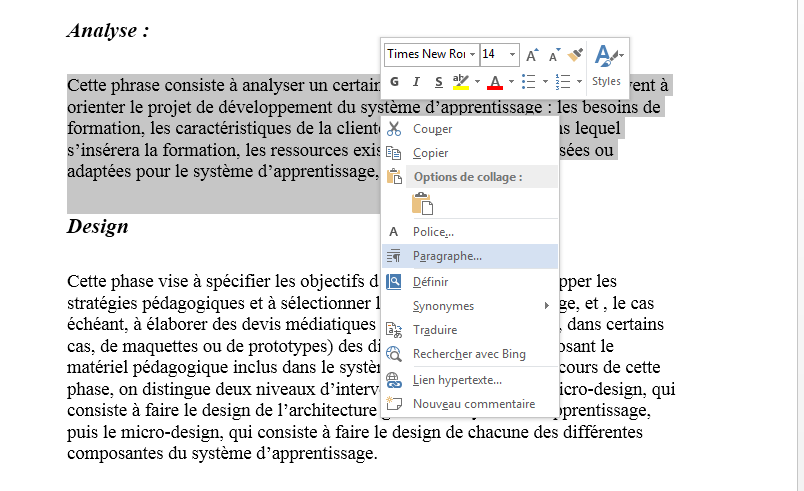texte: (258, 164, 379, 181), (257, 446, 377, 463), (176, 121, 291, 138), (219, 100, 332, 117), (426, 100, 542, 115), (142, 296, 244, 313), (121, 425, 223, 442), (66, 215, 128, 242), (133, 360, 228, 377), (553, 404, 650, 420), (68, 447, 163, 463), (286, 317, 375, 334), (243, 78, 328, 95), (249, 340, 333, 356), (66, 23, 137, 41), (282, 296, 380, 309), (278, 403, 376, 416), (68, 121, 144, 137), (560, 382, 646, 396), (468, 418, 528, 438), (68, 296, 137, 313), (143, 382, 210, 399), (123, 341, 197, 356), (163, 143, 240, 157), (68, 164, 131, 181), (207, 274, 270, 291), (301, 274, 364, 291), (564, 425, 642, 438), (361, 100, 420, 117), (194, 164, 253, 181), (386, 274, 448, 290), (193, 446, 251, 463), (387, 49, 494, 58), (68, 143, 140, 156), (68, 403, 137, 416), (258, 425, 327, 438), (111, 78, 159, 95), (393, 425, 441, 442), (398, 349, 472, 360), (67, 360, 128, 373), (68, 317, 128, 330), (147, 317, 207, 330), (321, 382, 379, 395), (576, 121, 620, 138), (68, 100, 125, 113), (413, 301, 474, 313), (148, 100, 191, 117), (582, 100, 638, 113), (607, 317, 663, 330), (111, 274, 153, 291), (67, 382, 109, 399), (165, 79, 224, 91), (414, 251, 473, 263), (271, 147, 348, 156), (203, 403, 250, 417), (439, 375, 493, 387), (340, 360, 376, 377), (333, 79, 380, 91), (465, 400, 535, 408), (337, 121, 380, 134), (234, 360, 277, 373), (378, 286, 395, 318), (477, 172, 522, 184), (256, 386, 315, 395), (595, 45, 624, 63), (414, 172, 457, 184), (586, 296, 625, 309), (414, 399, 460, 410), (242, 317, 280, 330), (413, 325, 457, 336), (412, 192, 433, 215), (216, 382, 252, 395), (68, 79, 106, 91), (414, 124, 452, 136), (68, 275, 106, 287), (613, 286, 627, 318), (136, 168, 170, 181), (453, 74, 480, 90), (568, 317, 601, 330), (283, 360, 316, 373), (336, 425, 369, 438), (413, 148, 448, 160), (556, 74, 582, 90), (560, 278, 592, 291), (146, 403, 178, 416), (626, 361, 660, 373), (652, 382, 675, 399), (229, 425, 252, 442), (67, 429, 97, 442), (487, 76, 514, 90), (312, 70, 325, 99), (560, 143, 589, 156), (414, 227, 448, 238), (560, 342, 595, 352), (560, 364, 598, 373), (534, 425, 558, 438), (630, 79, 655, 91), (375, 418, 390, 438), (213, 317, 236, 330), (339, 339, 362, 352), (321, 414, 330, 447), (593, 77, 620, 87), (158, 278, 188, 287), (503, 349, 525, 361), (557, 100, 577, 113), (246, 143, 266, 156), (386, 322, 402, 338), (151, 121, 170, 134), (276, 274, 295, 287), (597, 274, 616, 287), (560, 300, 579, 313), (338, 100, 356, 113), (354, 147, 380, 156), (68, 343, 94, 352), (169, 446, 187, 459), (132, 392, 139, 425), (413, 375, 434, 386), (643, 100, 660, 113), (446, 425, 463, 438), (386, 146, 401, 160), (197, 100, 213, 113), (297, 121, 313, 134), (604, 360, 620, 373), (101, 339, 117, 352), (227, 339, 243, 352), (256, 403, 272, 416), (631, 300, 654, 309), (387, 122, 401, 136), (568, 48, 583, 61), (130, 100, 143, 113), (319, 121, 332, 134), (145, 143, 158, 156), (175, 164, 188, 177), (184, 403, 197, 416), (595, 147, 613, 156), (527, 48, 539, 61), (250, 297, 263, 309), (601, 339, 613, 352), (322, 360, 334, 373), (104, 425, 116, 438), (204, 343, 221, 352), (120, 386, 137, 395), (476, 352, 498, 358), (460, 172, 474, 181), (368, 339, 377, 352), (551, 48, 559, 61), (370, 274, 378, 287), (230, 78, 237, 91), (661, 78, 668, 91), (194, 274, 201, 287), (134, 317, 141, 330), (560, 125, 570, 134), (435, 77, 443, 88), (269, 296, 275, 309), (413, 77, 420, 86), (143, 27, 148, 37), (545, 302, 549, 309), (549, 104, 551, 113), (510, 53, 515, 56), (397, 77, 398, 86)
